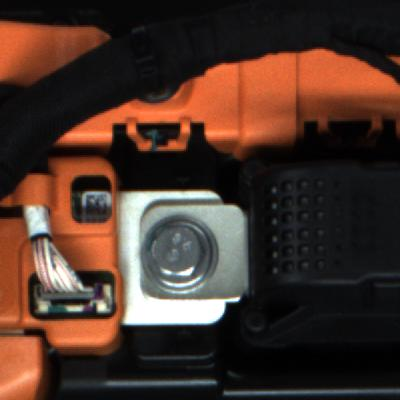nut_b: (130, 213, 224, 290)
